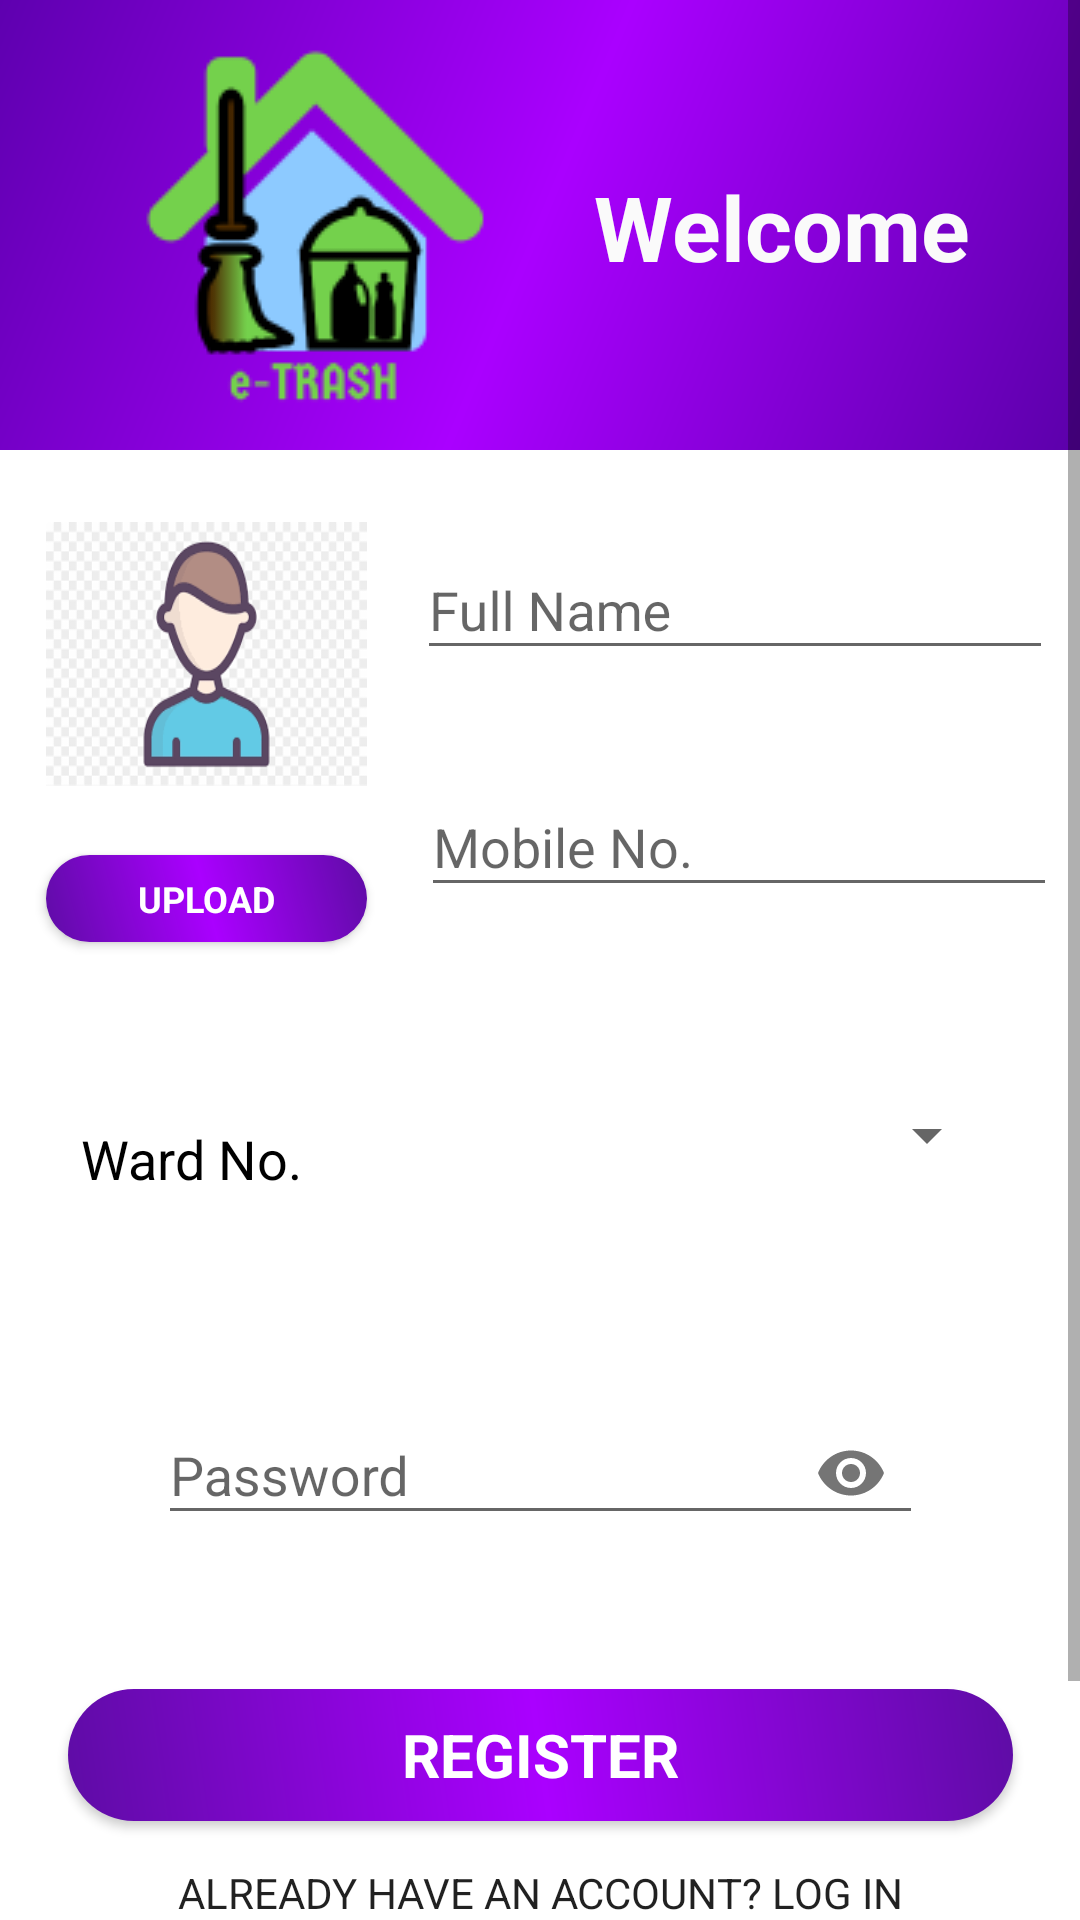

Screen size 1080×1920. Icon name, then its center in pixels as (x=x, y=y):
propic: (x=206, y=654)
